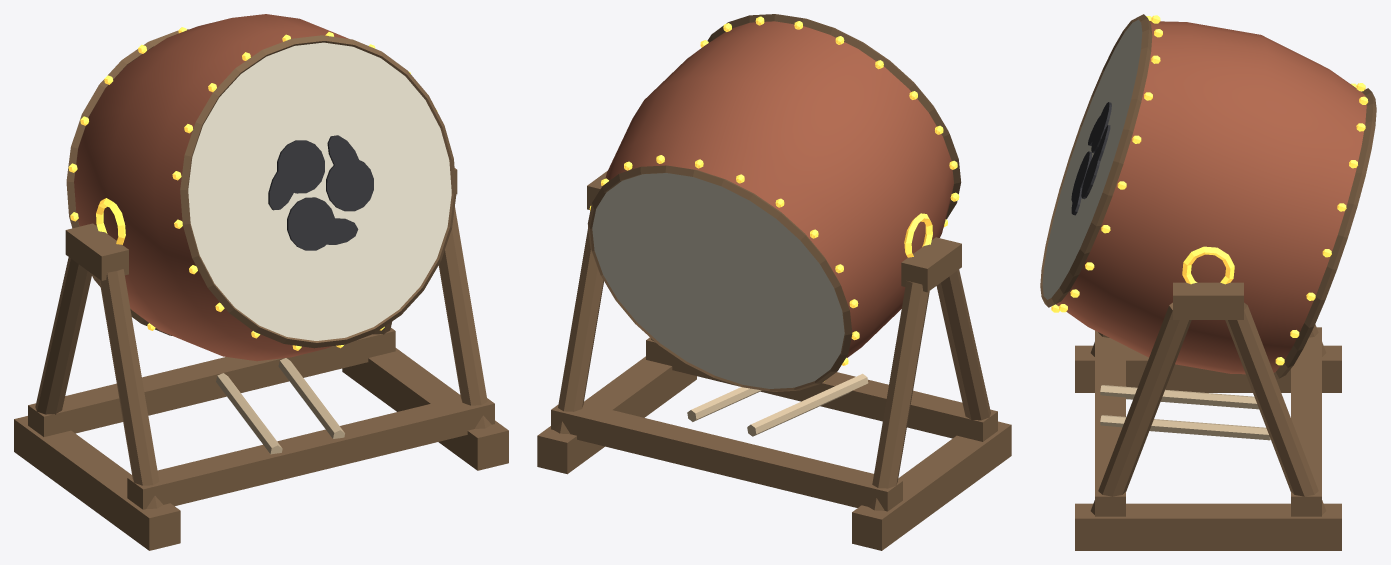
File: jp_taiko.glb
3 renders of one model, left to right at view 1: azimuth 30°, elevation 25°; view 2: azimuth 150°, elevation 25°; view 3: azimuth 270°, elevation 25°, orthographic. The views are drawn at different scales.
Parts seen in each view (by area): view 1: jp_taiko; view 2: jp_taiko; view 3: jp_taiko.
Boxes of the visible parts, left/top/right/bottom form: jp_taiko: left=14, top=14, right=508, bottom=550; jp_taiko: left=537, top=14, right=1011, bottom=550; jp_taiko: left=1040, top=14, right=1376, bottom=550.
Bounding box in the file's own units: 0.92 × 1.08 × 0.7554.
